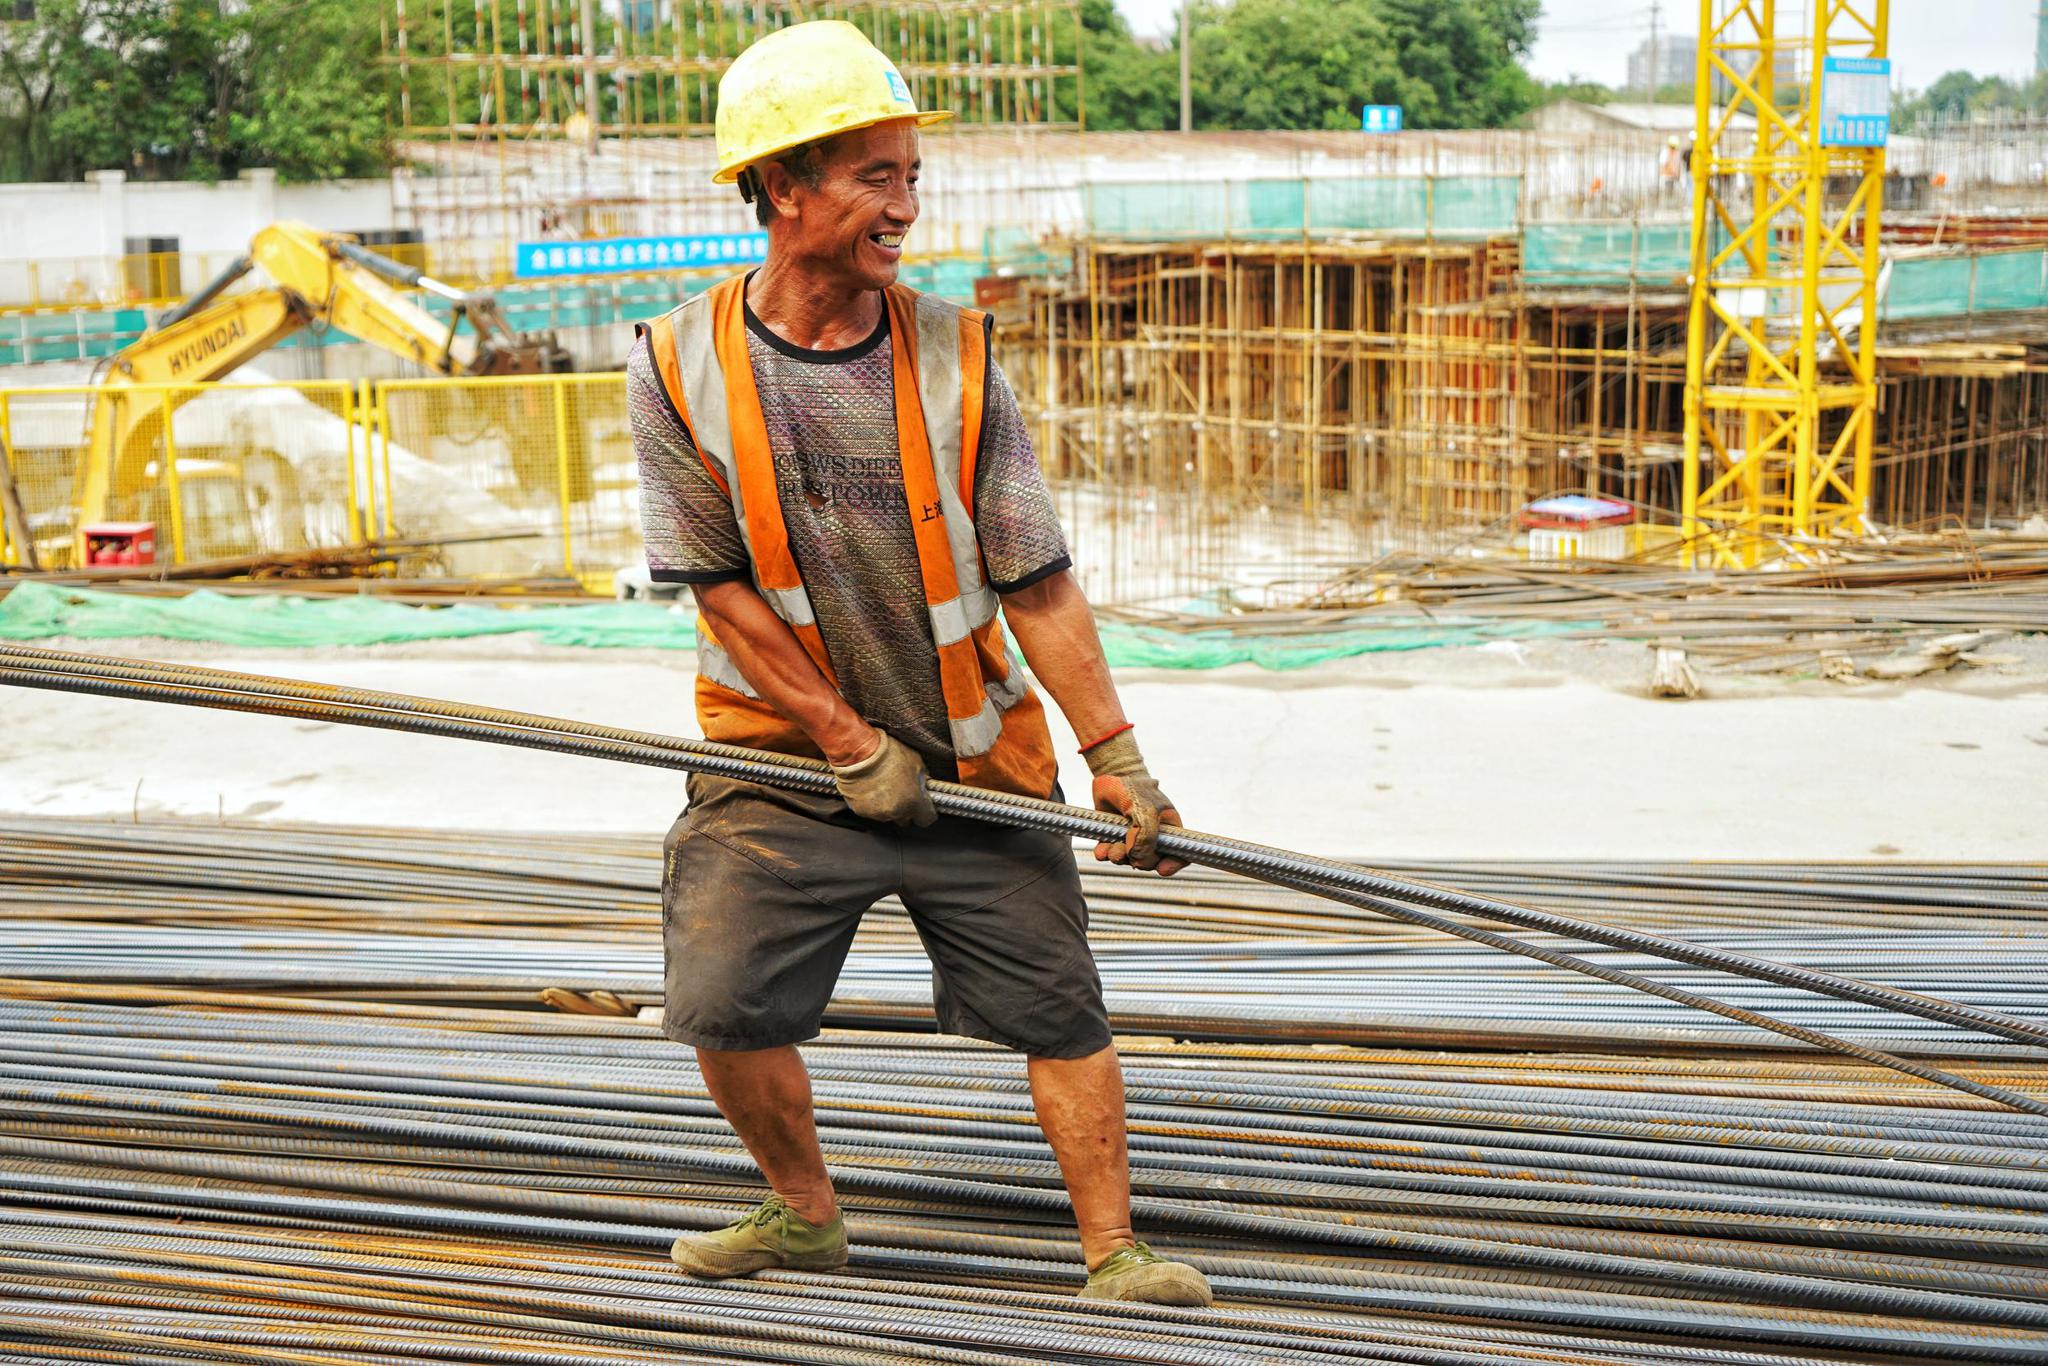safetyhat: (544, 6, 1216, 1316)
